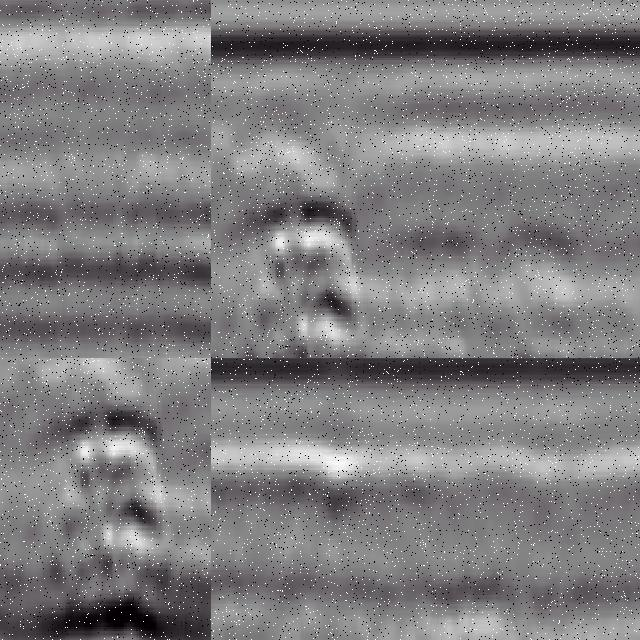loose: (11, 390, 193, 640), (212, 181, 388, 359)
